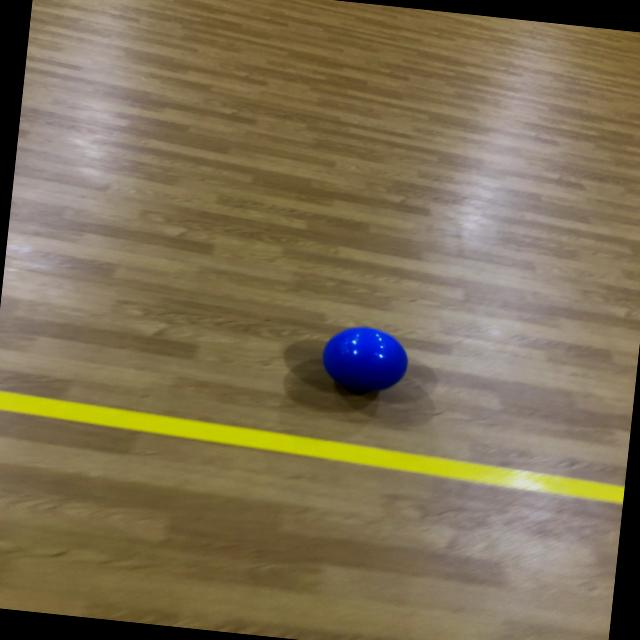blue_ball: (322, 323, 412, 398)
